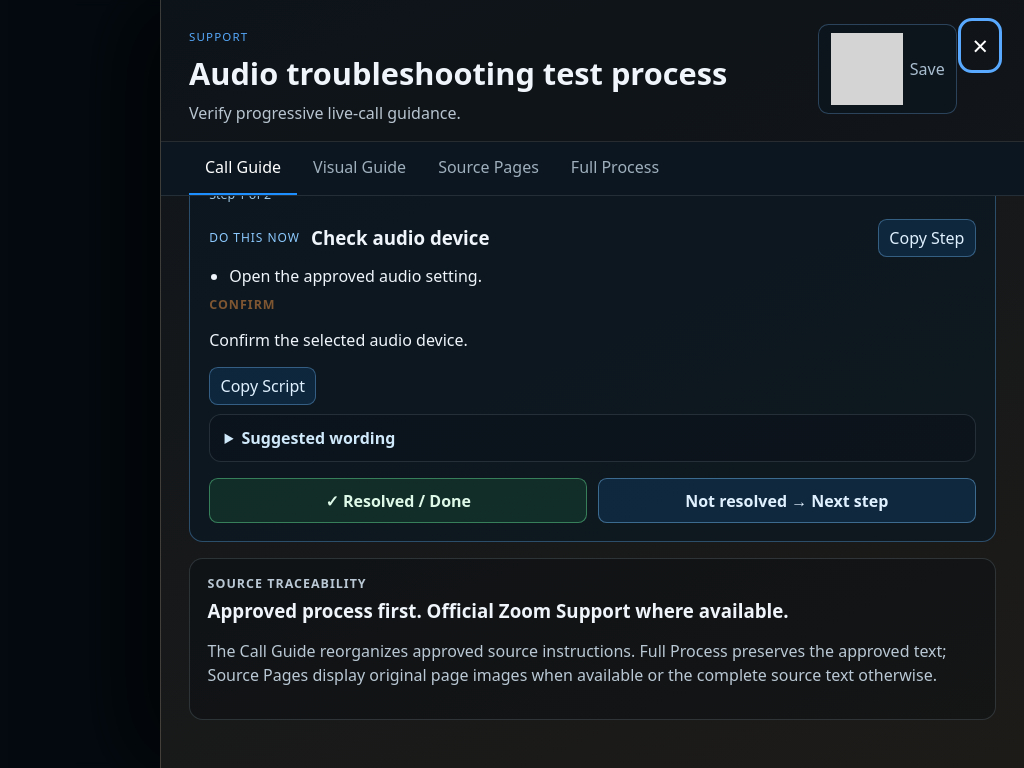
Test: shows one approved step at a time and stops when the issue is resolved
(page scrolled)
Expected: the heading "Check audio device" is shown, [311,225,490,250]
Expected: the text "Confirm playback" is not shown
Click the button "Not resolved → Next step" at x=787, y=500, box [598,478,976,523]
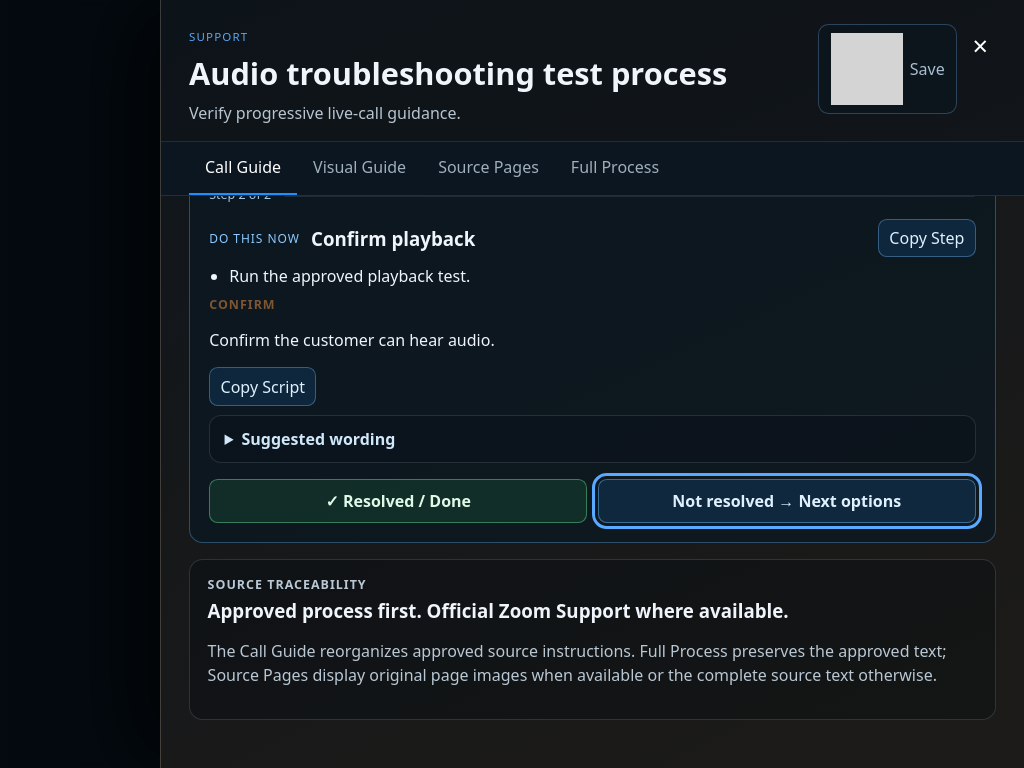
Now the heading "Confirm playback" is shown, box [311,226,475,251]
Now the heading "Check audio device" is gone
Click the button "✓ Resolved / Done" at x=398, y=501, box [209,478,587,523]
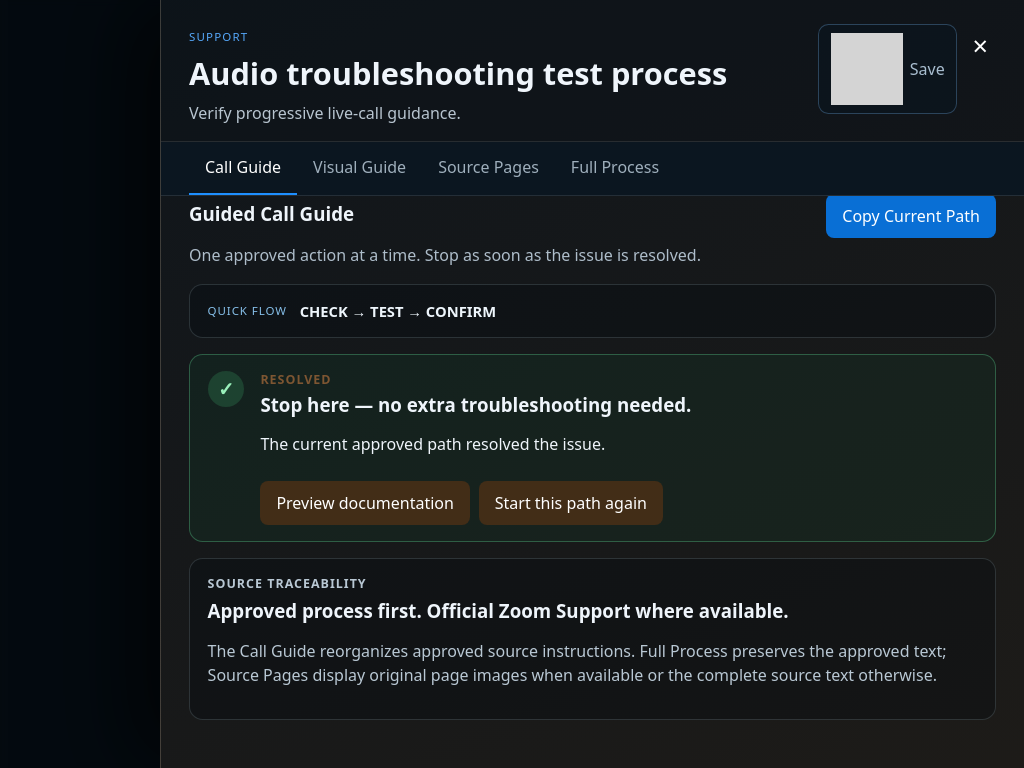
Now the heading "Stop here — no extra troubleshooting needed." is shown, box [260,392,691,416]
